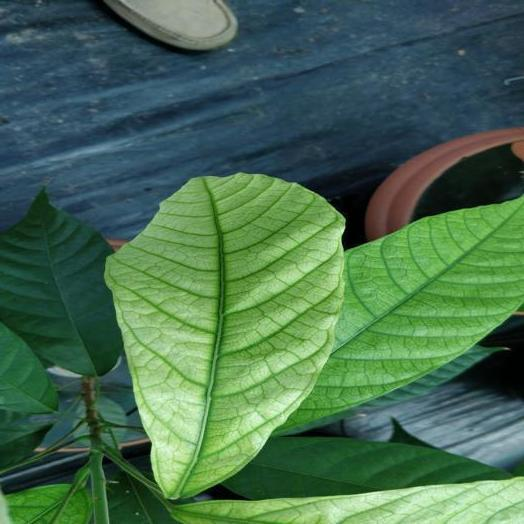Healthy Leaf: (0, 191, 122, 374), (225, 437, 511, 499), (0, 323, 57, 413)
Iron: (105, 173, 343, 497), (282, 196, 523, 429), (173, 478, 523, 523)
